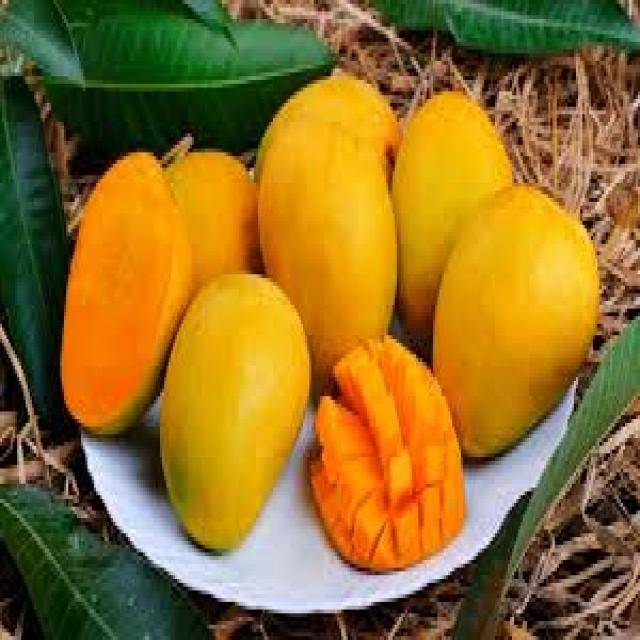mango: (433, 181, 597, 475), (160, 270, 314, 556), (57, 133, 200, 439), (299, 330, 469, 567), (272, 119, 394, 406), (392, 81, 516, 348), (173, 145, 258, 293)
